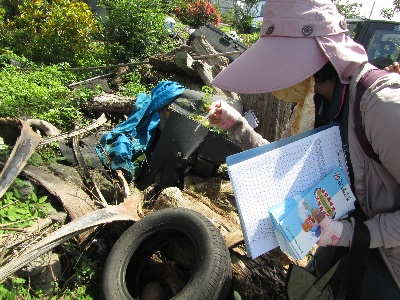plastic_bag: (95, 80, 186, 176)
tire: (101, 205, 234, 300)
